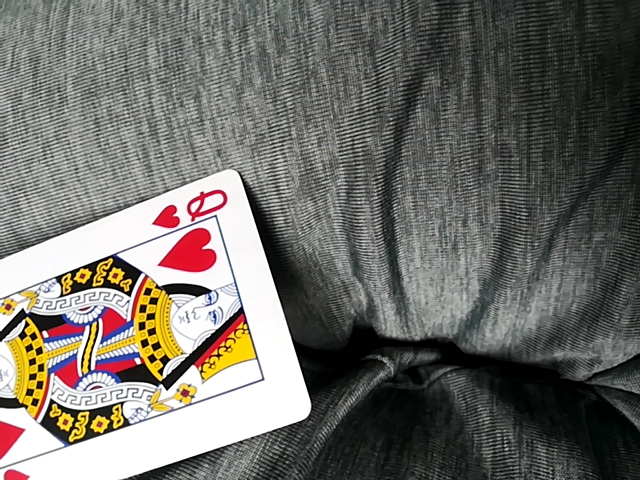hx q: (1, 166, 312, 479)
